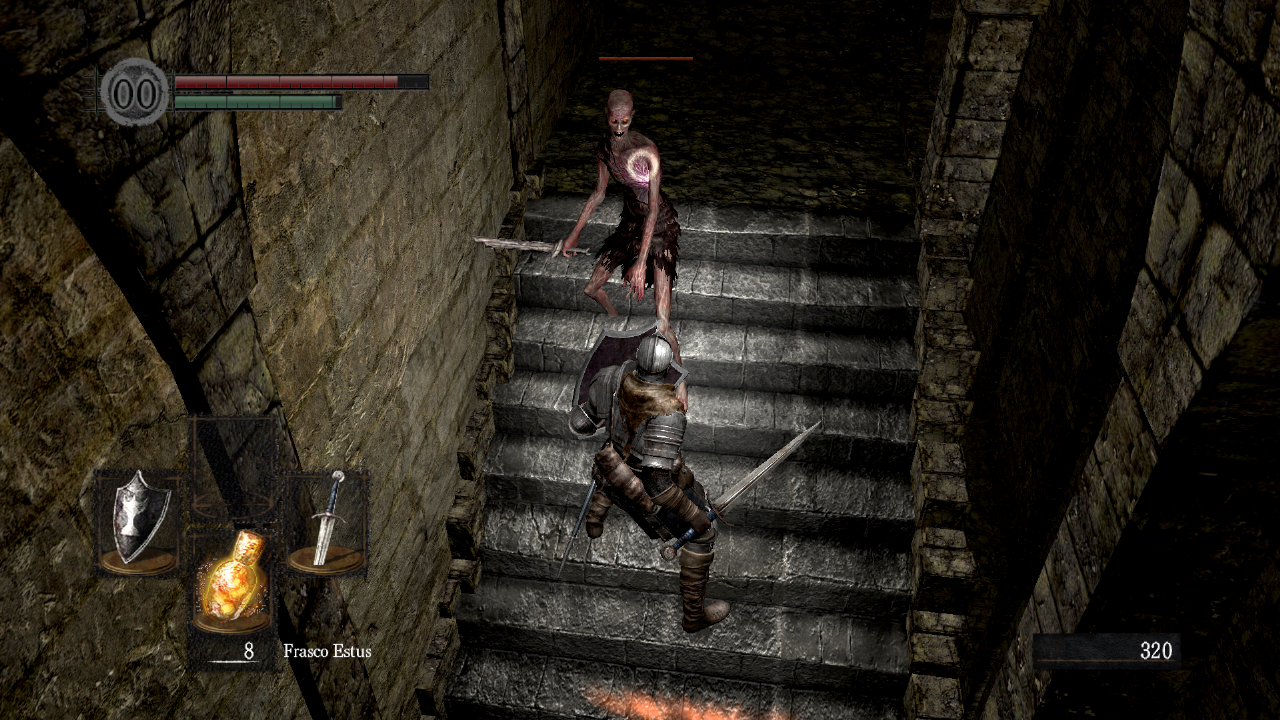hollow: (472, 89, 689, 414)
player: (555, 320, 823, 633)
